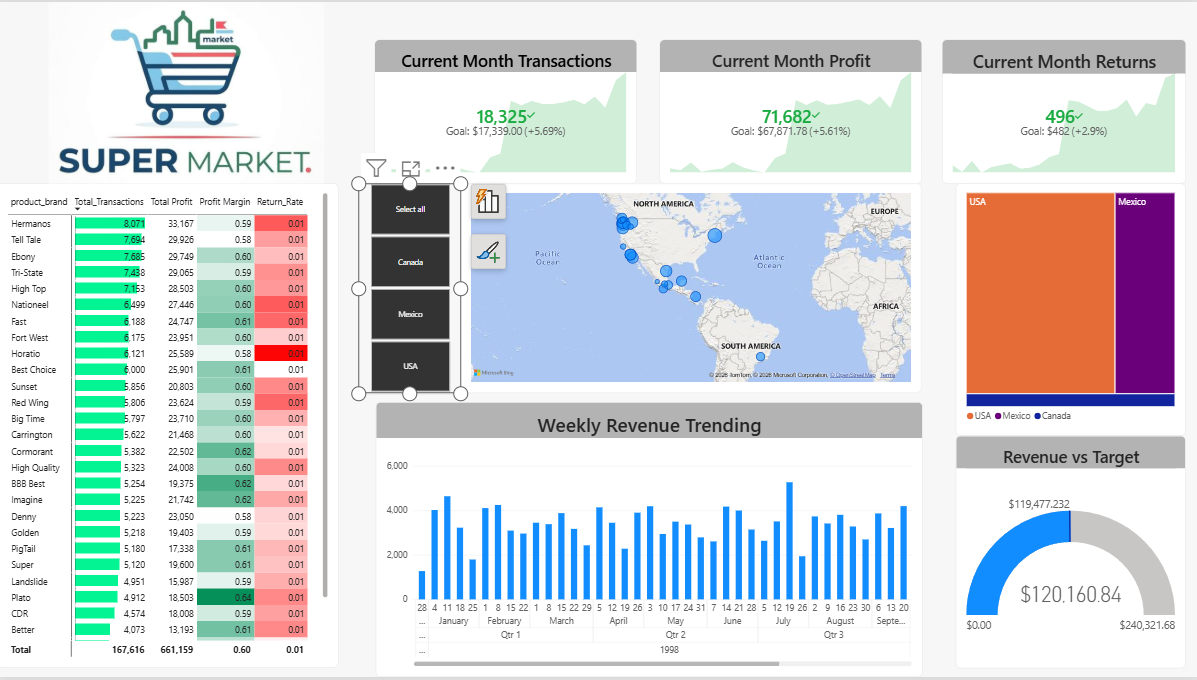

Layout of this report page (visuals, bound fields, positions):
{"tool":"powerbi","page":{"name":"Topline Performance","canvas":[1920,1080],"ordinal":0},"visuals":[{"type":"textbox","box":[10,580,280,280],"z":0},{"type":"pivotTable","fields":{"Rows":["Products.product_brand"],"Values":["Transaction_Data.Total_Transactions","Transaction_Data.Total Profit","Transaction_Data.Profit Margin","All Measures.Return_Rate"]},"box":[0,290,546.7,775],"z":2000},{"type":"kpi","title":"Current Month Transactions","fields":{"Goal":["Transaction_Data.Last Month Transactions"],"Indicator":["Transaction_Data.Total_Transactions"],"TrendLine":["Calendar.Start of Month"]},"box":[604,60,420,230],"z":3000},{"type":"kpi","title":"Current Month Profit","fields":{"Goal":["Transaction_Data.Last Month Profit"],"Indicator":["Transaction_Data.Total Profit"],"TrendLine":["Calendar.Start of Month"]},"box":[1060,60,420,230],"z":4000},{"type":"kpi","title":"Current Month Returns","fields":{"Goal":["Transaction_Data.Last Month Returns"],"Indicator":["Returns_Data.Total_Returns"],"TrendLine":["Calendar.Start of Month"]},"box":[1512,60,390,230],"z":5000},{"type":"map","fields":{"Category":["Stores.store_city"],"Size":["Transaction_Data.Total_Transactions"]},"box":[742.5,290,737.5,335],"z":6000},{"type":"slicer","fields":{"Values":["Stores.store_country"]},"box":[577.5,290,165,335],"z":7000},{"type":"treemap","fields":{"Group":["Stores.store_country","Stores.store_state","Stores.store_city"],"Values":["Transaction_Data.Total_Transactions"]},"box":[1534,290,368,404],"z":8000},{"type":"clusteredColumnChart","title":"Weekly Revenue Trending","fields":{"Category":["Calendar.Start of Week.Variation.Date Hierarchy.Year","Calendar.Start of Week.Variation.Date Hierarchy.Quarter","Calendar.Start of Week.Variation.Date Hierarchy.Month","Calendar.Start of Week.Variation.Date Hierarchy.Day"],"Y":["Transaction_Data.Total_Transactions"]},"box":[605,640,875,440],"z":9000},{"type":"gauge","title":"Revenue vs Target","fields":{"TargetValue":["Transaction_Data.Revenue Target"],"Y":["Transaction_Data.Total Revenue"]},"box":[1534,694,368,372],"z":9001},{"type":"image","box":[10,18,536,258],"z":9002}]}

Visuals, with their boxes in screenshot pixels (x1, y1, x2, y2), scaled from the page's 1920x1080 canvas onto the 1197x680 screenshot:
textbox: (left=6, top=365, right=181, bottom=541)
pivotTable - Products.product_brand x Transaction_Data.Total_Transactions: (left=0, top=183, right=341, bottom=671)
"Current Month Transactions" kpi: (left=377, top=38, right=638, bottom=183)
"Current Month Profit" kpi: (left=661, top=38, right=923, bottom=183)
"Current Month Returns" kpi: (left=943, top=38, right=1186, bottom=183)
map - Stores.store_city x Transaction_Data.Total_Transactions: (left=463, top=183, right=923, bottom=394)
slicer - Stores.store_country: (left=360, top=183, right=463, bottom=394)
treemap - Stores.store_country x Stores.store_state: (left=956, top=183, right=1186, bottom=437)
"Weekly Revenue Trending" clusteredColumnChart: (left=377, top=403, right=923, bottom=679)
"Revenue vs Target" gauge: (left=956, top=437, right=1186, bottom=671)
image: (left=6, top=11, right=340, bottom=174)
